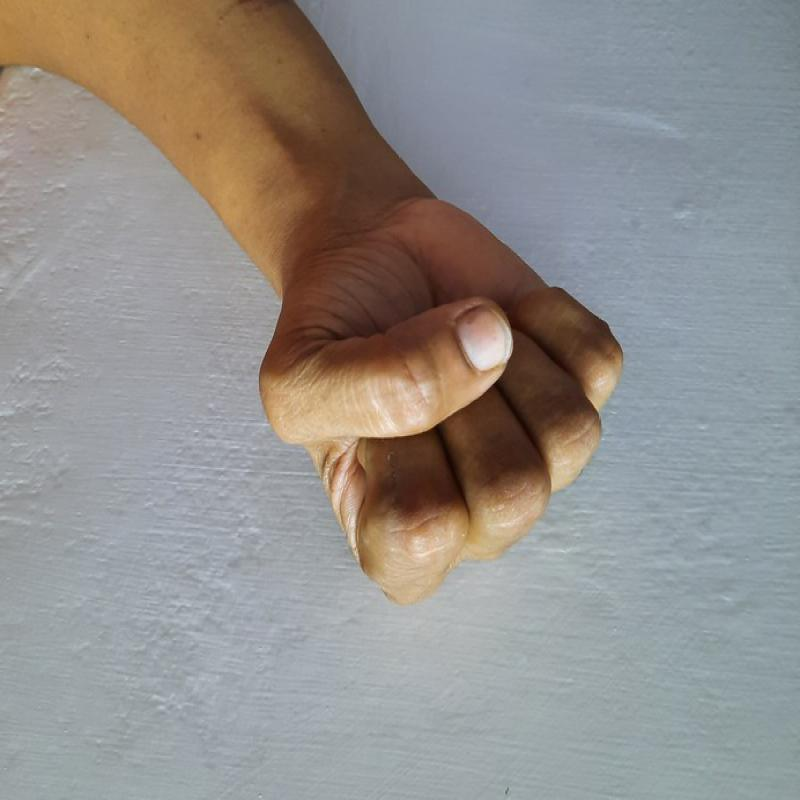Mushti: (246, 186, 629, 616)
